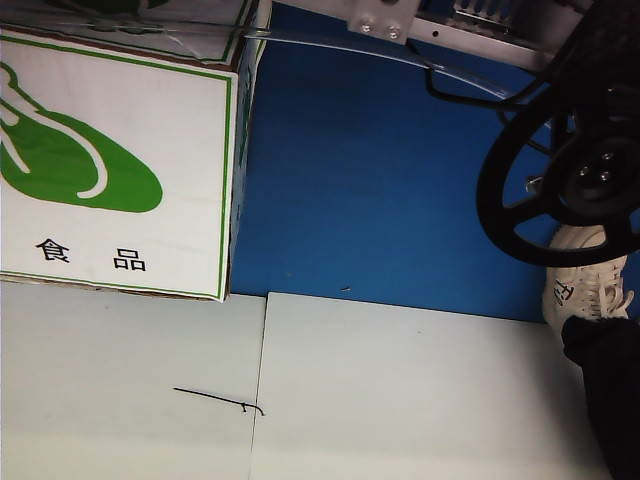Cube_food: (0, 57, 169, 278)
